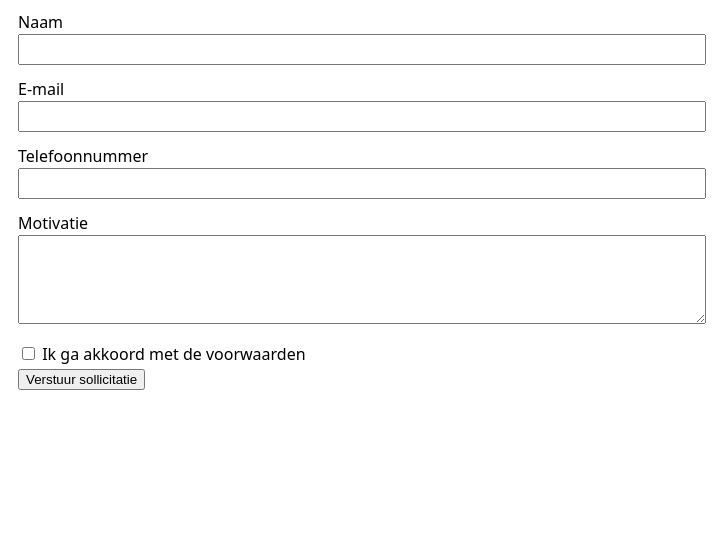
Test: ApplicationForm – validatie › toont foutmeldingen voor alle verplichte velden bij een leeg formulier
What coordinates should you click on to do the following:
click the button "Verstuur sollicitatie"
I would click on:
 (82, 380)
Its box is [18,369,145,390].
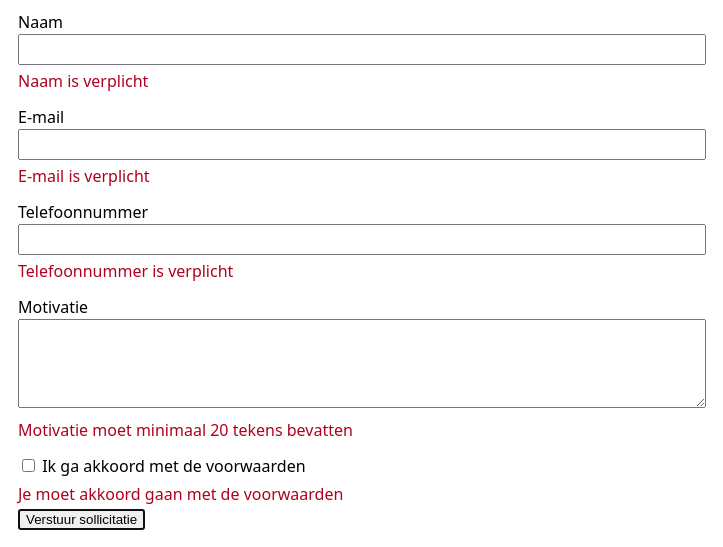
Now the text "Naam is verplicht" is shown, box [18,70,148,92]
Now the text "E-mail is verplicht" is shown, box [18,165,150,187]
Now the text "Telefoonnummer is verplicht" is shown, box [18,260,233,282]
